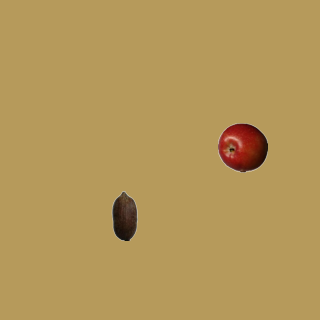Apple Braeburn: (217, 122, 267, 172)
Nut Pecan: (99, 190, 149, 240)
